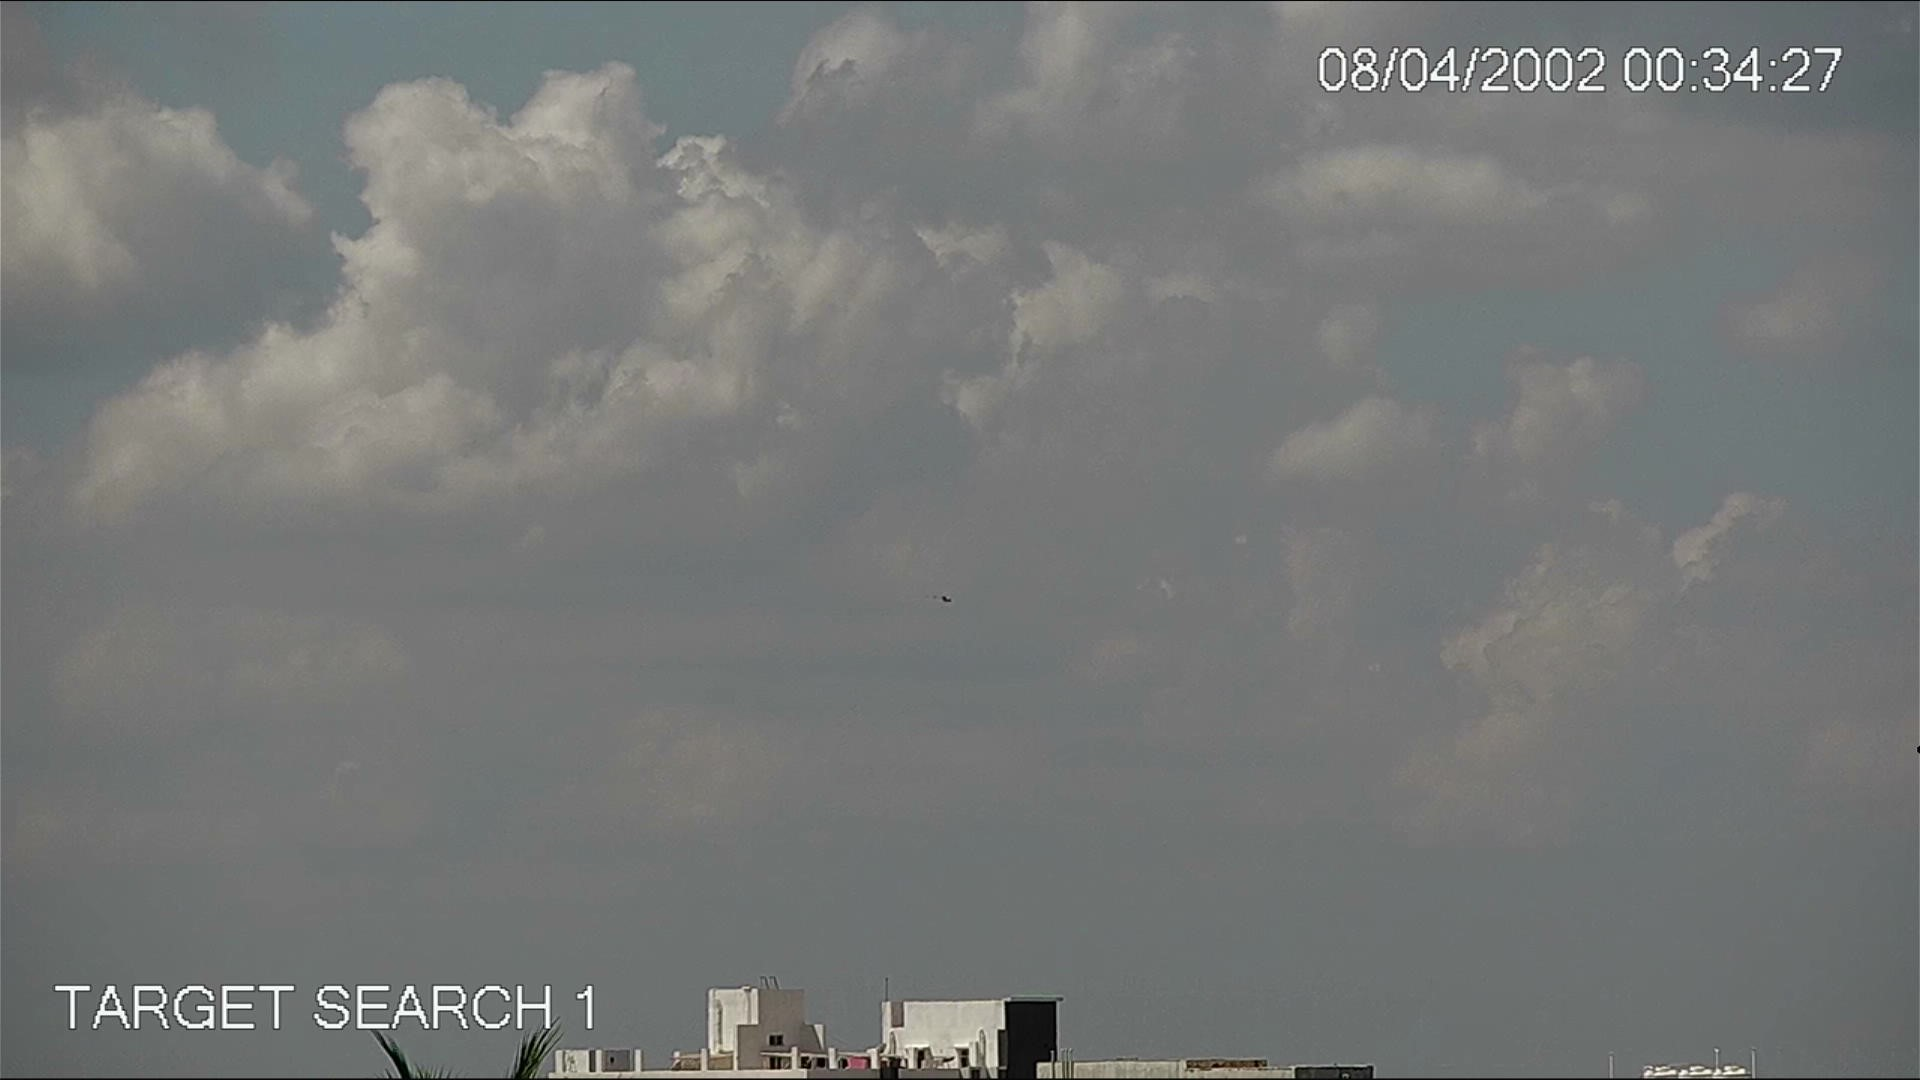SU_30: (924, 591, 955, 608)
